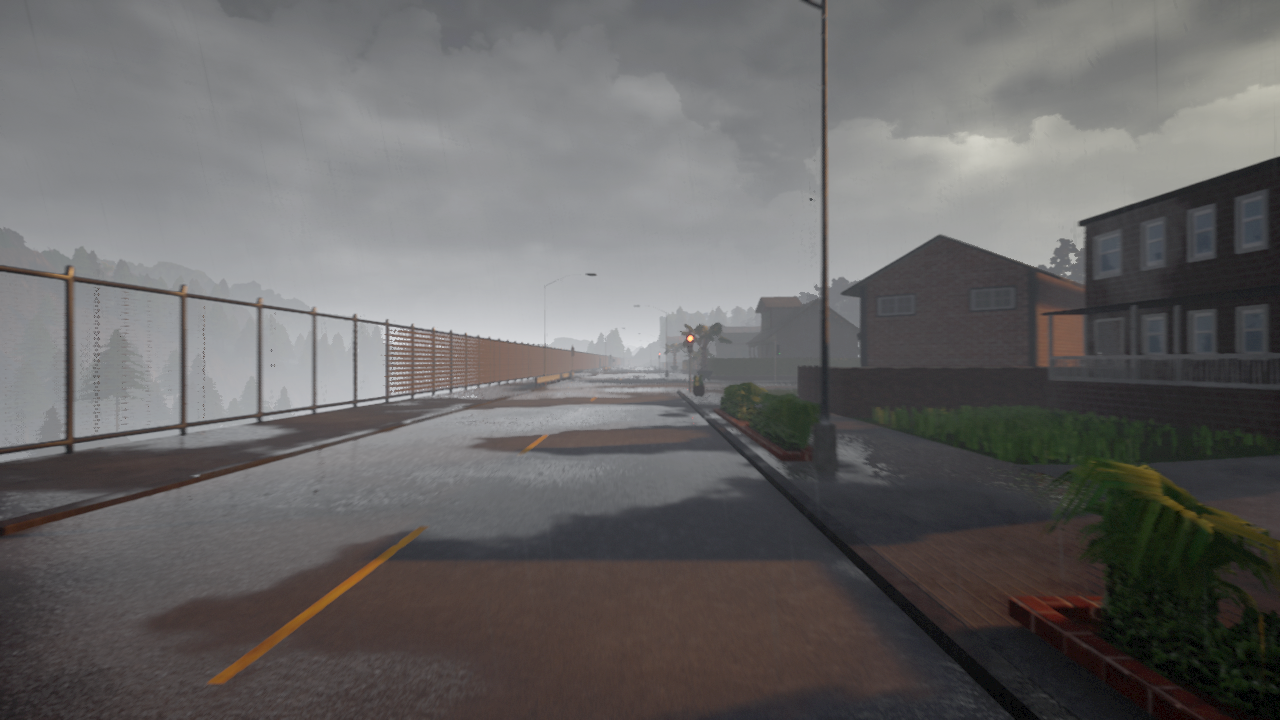red: (685, 334, 693, 354)
